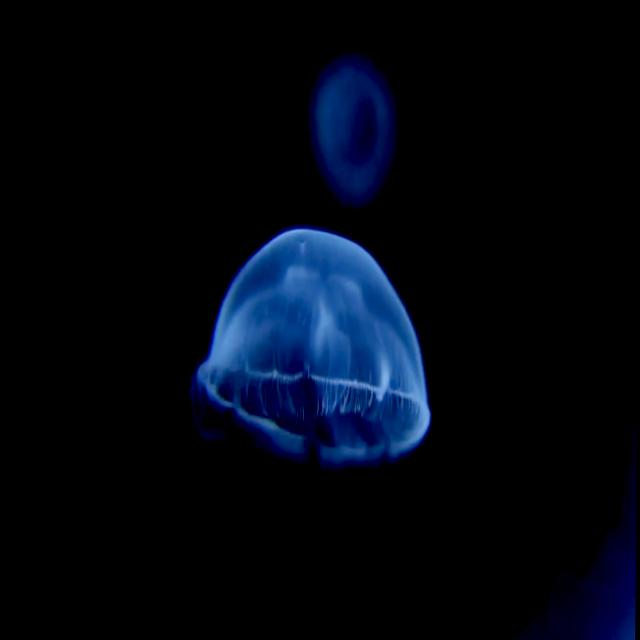Moon-jellyfish: (189, 225, 430, 462)
